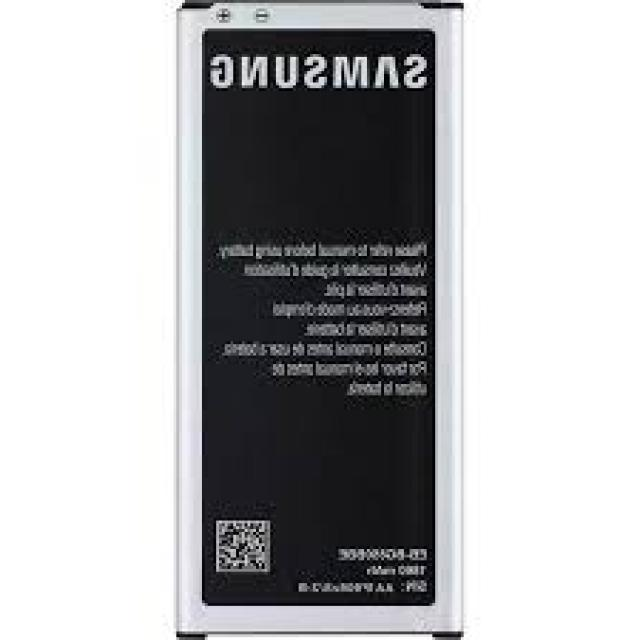battery: (173, 0, 468, 640)
